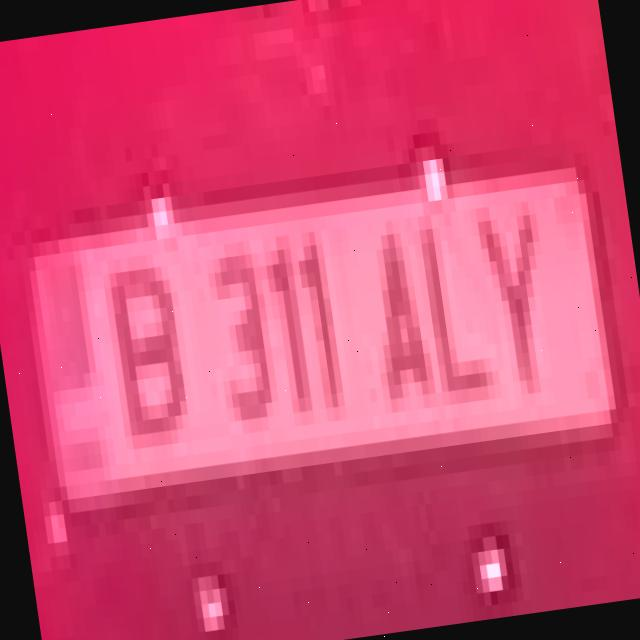Autre: (20, 156, 627, 520)
